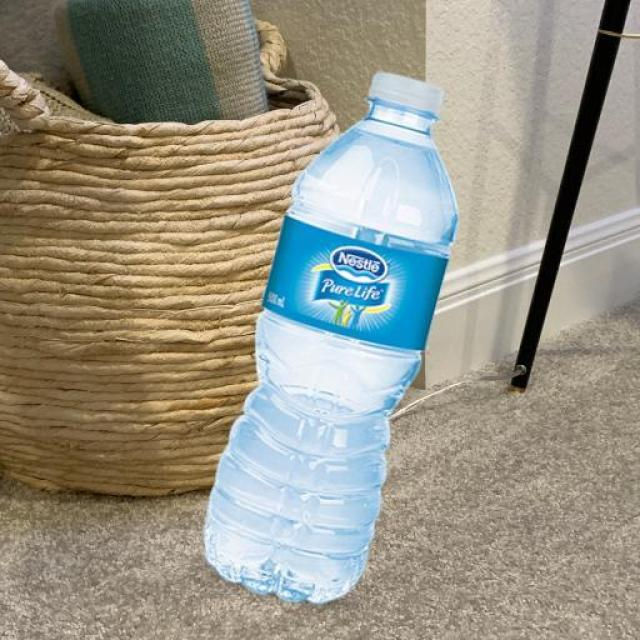bottle: (172, 62, 482, 610)
